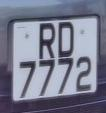2: (74, 53, 94, 95)
7: (17, 56, 39, 103), (36, 57, 59, 101), (55, 55, 76, 98)
D: (55, 19, 79, 62)
R: (34, 19, 59, 63)
